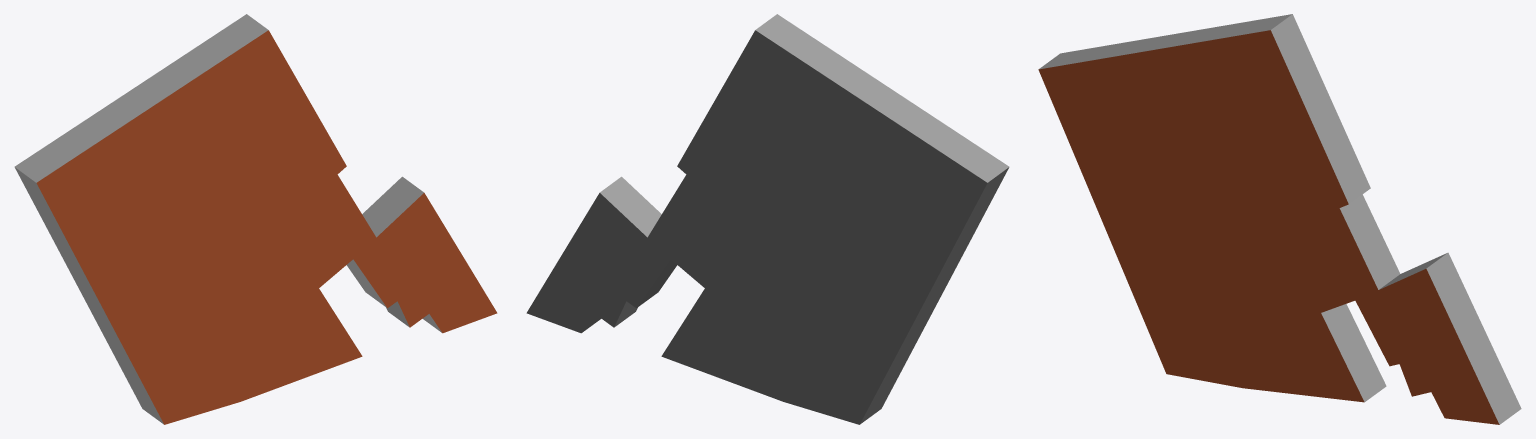
File: construction_4519_assumed_A_Casa_h6m.obj
3 views of the same model, side by side, from view 1: azimuth 30°, elevation 25°; view 2: azimuth 150°, elevation 25°; view 3: azimuth 330°, elevation 25° (orthographic).
Parts seen in each view (by area): view 1: construction_4519_assumed_A_Casa; view 2: construction_4519_assumed_A_Casa; view 3: construction_4519_assumed_A_Casa.
Part boxes in pixels (bbox=[...]): construction_4519_assumed_A_Casa: bbox=[14, 14, 497, 424]; construction_4519_assumed_A_Casa: bbox=[526, 14, 1009, 424]; construction_4519_assumed_A_Casa: bbox=[1038, 14, 1521, 424].
Size of the model in its own units: 72.58 by 55.55 by 6.
